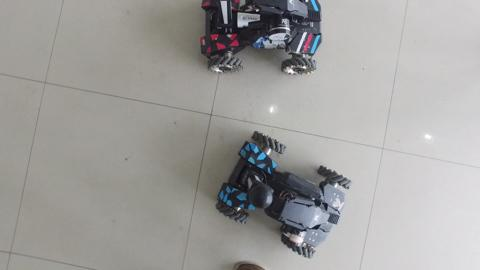chariot: (209, 126, 362, 262), (194, 1, 338, 77)
